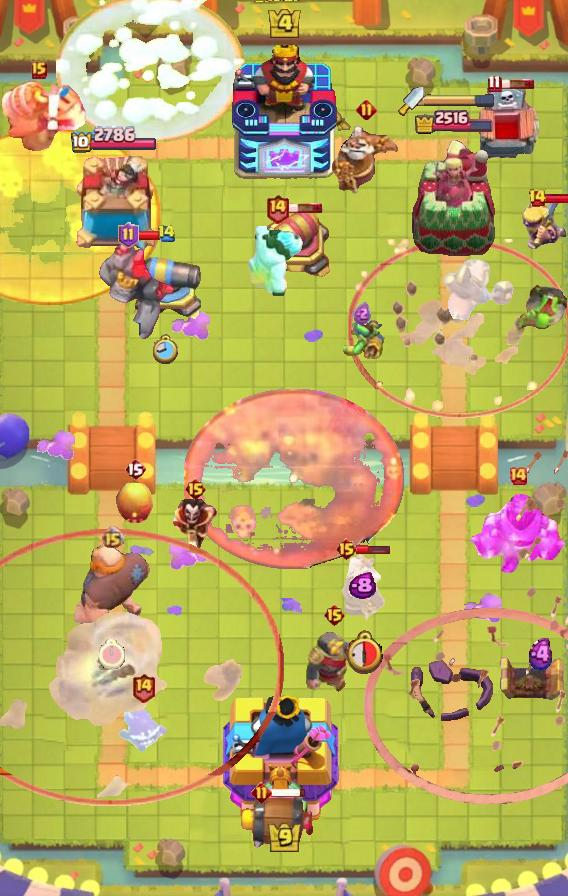arrows: (521, 197, 568, 251)
balloon: (72, 543, 152, 631)
bar: (409, 138, 497, 256)
bar-level: (514, 284, 568, 332)
cannoneer-tower: (97, 235, 185, 341)
electro-spirit: (526, 638, 557, 671), (348, 572, 376, 600), (353, 302, 371, 325)
elixir: (342, 630, 383, 675), (153, 335, 179, 365), (99, 639, 125, 669)
elixir-collector: (331, 123, 401, 195), (336, 548, 388, 628)
elixir-golem-mid: (472, 83, 542, 169)
emote: (136, 230, 172, 243), (499, 78, 535, 90), (287, 202, 323, 214), (269, 787, 306, 798), (357, 544, 392, 555), (544, 192, 568, 203)
firecracker: (305, 630, 363, 693)
freeze: (433, 257, 519, 327)
giant-snowball: (338, 318, 386, 360)
goblin-brawler: (496, 655, 568, 703)
guard: (348, 238, 568, 417)
hog: (115, 481, 155, 525)
king-tower: (223, 689, 345, 826), (230, 41, 338, 181)
king-tower-bar: (424, 93, 496, 107)
lumberjack: (169, 495, 221, 549)
night-witch: (0, 76, 92, 154)
phoenix-big: (55, 0, 246, 143)
phoenix-egg: (184, 389, 404, 570), (0, 130, 160, 307)
queen-tower: (68, 156, 160, 256)
rage: (246, 226, 304, 296)
royal-ghost: (0, 530, 284, 807)
royal-guardian: (469, 482, 567, 576)
royal-recruit: (130, 242, 202, 326), (257, 206, 335, 282)
selected: (70, 126, 158, 154), (414, 109, 495, 136)
skeleton-barrel: (364, 447, 568, 806)
spear-goblin: (117, 707, 169, 753)
text: (266, 193, 291, 224), (131, 672, 156, 703), (184, 477, 207, 501), (335, 537, 358, 561), (322, 603, 345, 627), (117, 222, 138, 248), (100, 526, 123, 549), (124, 457, 146, 481), (355, 99, 376, 121), (252, 782, 273, 803), (528, 188, 548, 208), (508, 466, 528, 486), (157, 225, 176, 244), (31, 61, 47, 79), (486, 75, 501, 93)
the-log: (237, 791, 317, 851)
